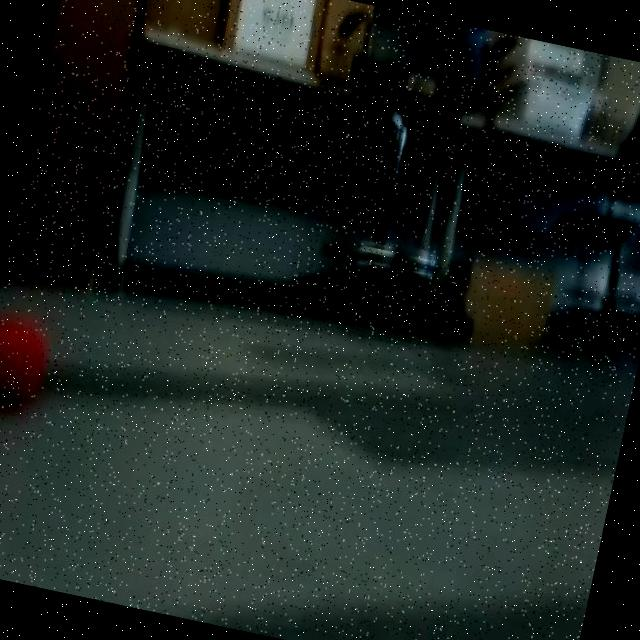ping-pong-ball: (0, 313, 48, 405)
